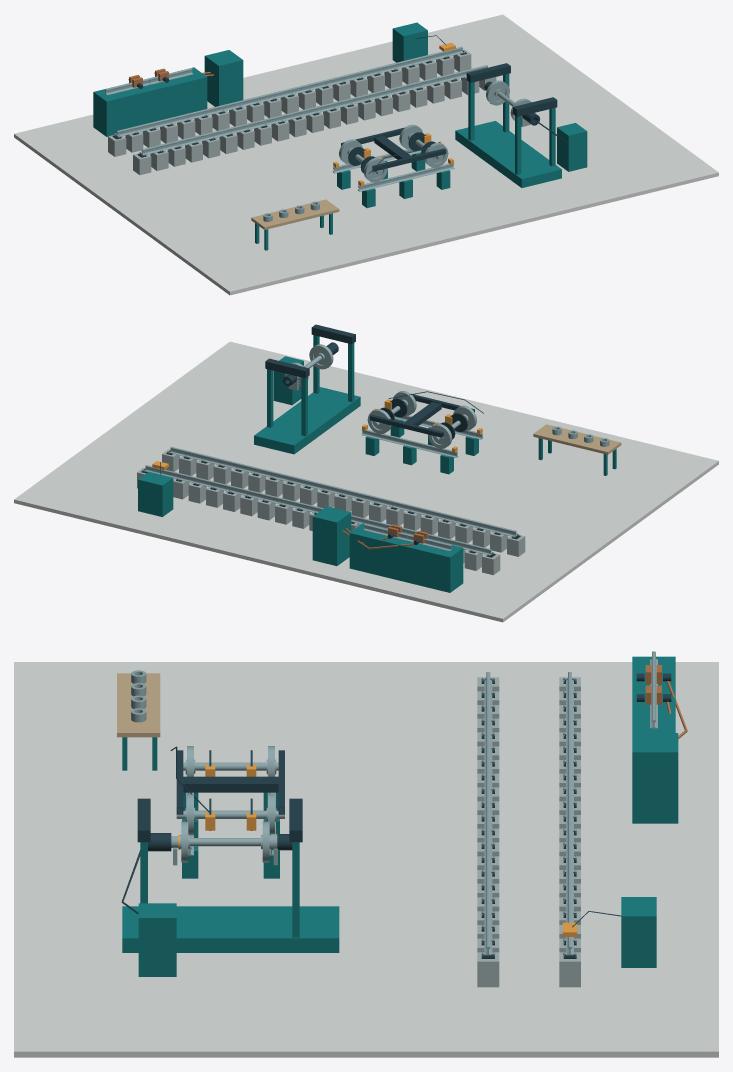
Rendered from rail-running-gear.glb.
3 renders of one model, top to bottom at view 1: azimuth 30°, elevation 25°; view 2: azimuth 150°, elevation 25°; view 3: azimuth 270°, elevation 25°, orthographic. The views are drawn at different scales.
Visible parts, largest first — view 1: shop/floor, weld/bed, press/bed, rail-jig/stock/1, rail-jig/stock/-1, weld/supply-cabinet, press/pressure-and-curve-logging, inspection/cart, service-bench/top, bogie-bay/inspection-track/-1, press/crosshead/1, press/crosshead/0; view 2: shop/floor, weld/bed, press/bed, rail-jig/stock/-1, weld/supply-cabinet, rail-jig/stock/1, inspection/cart, service-bench/top, press/pressure-and-curve-logging, bogie-bay/inspection-track/1, press/crosshead/1, press/crosshead/0; view 3: shop/floor, press/bed, weld/supply-cabinet, press/pressure-and-curve-logging, inspection/cart, rail-jig/stock/-1, weld/bed, service-bench/top, rail-jig/stock/1, bogie-bay/bogie/0/bolster/1, press/column/1/1, rail-jig/support/-1/20 (+4 smaller).
Part boxes in pixels (left/top/right/bottom): shop/floor: left=14, top=14, right=718, bottom=295; weld/bed: left=93, top=67, right=207, bottom=136; press/bed: left=455, top=121, right=561, bottom=187; rail-jig/stock/1: left=116, top=46, right=462, bottom=136; rail-jig/stock/-1: left=141, top=65, right=487, bottom=154; weld/supply-cabinet: left=204, top=50, right=243, bottom=106; press/pressure-and-curve-logging: left=557, top=123, right=587, bottom=171; inspection/cart: left=392, top=22, right=427, bottom=64; service-bench/top: left=251, top=199, right=339, bottom=229; bogie-bay/inspection-track/-1: left=357, top=163, right=454, bottom=191; press/crosshead/1: left=466, top=63, right=510, bottom=82; press/crosshead/0: left=513, top=97, right=557, bottom=116; shop/floor: left=14, top=341, right=718, bottom=622; weld/bed: left=349, top=523, right=463, bottom=592; press/bed: left=254, top=387, right=360, bottom=454; rail-jig/stock/-1: left=170, top=446, right=517, bottom=536; weld/supply-cabinet: left=312, top=506, right=351, bottom=565; rail-jig/stock/1: left=145, top=465, right=492, bottom=555; inspection/cart: left=138, top=472, right=173, bottom=516; service-bench/top: left=533, top=424, right=621, bottom=454; press/pressure-and-curve-logging: left=273, top=356, right=303, bottom=405; bogie-bay/inspection-track/1: left=361, top=429, right=458, bottom=457; press/crosshead/1: left=265, top=358, right=309, bottom=378; press/crosshead/0: left=311, top=324, right=355, bottom=344; shop/floor: left=14, top=662, right=718, bottom=1057; press/bed: left=122, top=906, right=339, bottom=952; weld/supply-cabinet: left=632, top=733, right=678, bottom=823; press/pressure-and-curve-logging: left=138, top=903, right=176, bottom=976; inspection/cart: left=621, top=897, right=656, bottom=967; rail-jig/stock/-1: left=484, top=672, right=492, bottom=955; weld/bed: left=632, top=656, right=675, bottom=732; service-bench/top: left=117, top=673, right=160, bottom=737; rail-jig/stock/1: left=566, top=672, right=573, bottom=955; bogie-bay/bogie/0/bolster/1: left=183, top=784, right=278, bottom=792; press/column/1/1: left=292, top=842, right=299, bottom=937; rail-jig/support/-1/20: left=477, top=952, right=499, bottom=987.
Bounding box in the file's own units: 17 × 2.61 × 13.
